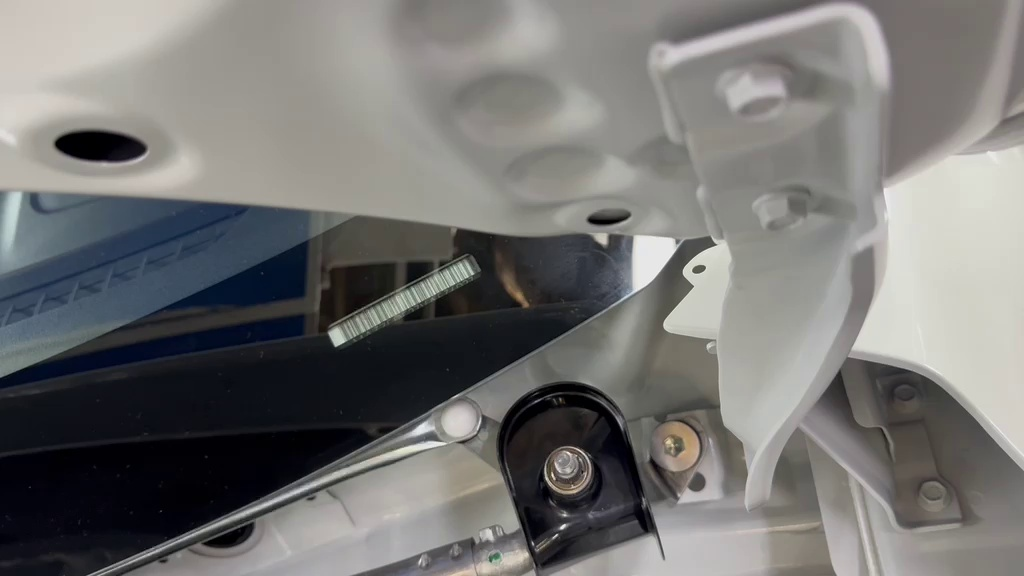barcode: (451, 374, 694, 576)
hinge: (308, 247, 493, 362)
